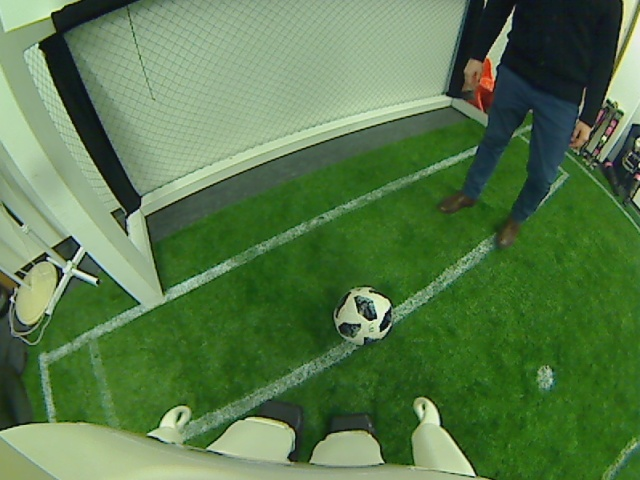ball: (330, 284, 394, 345)
